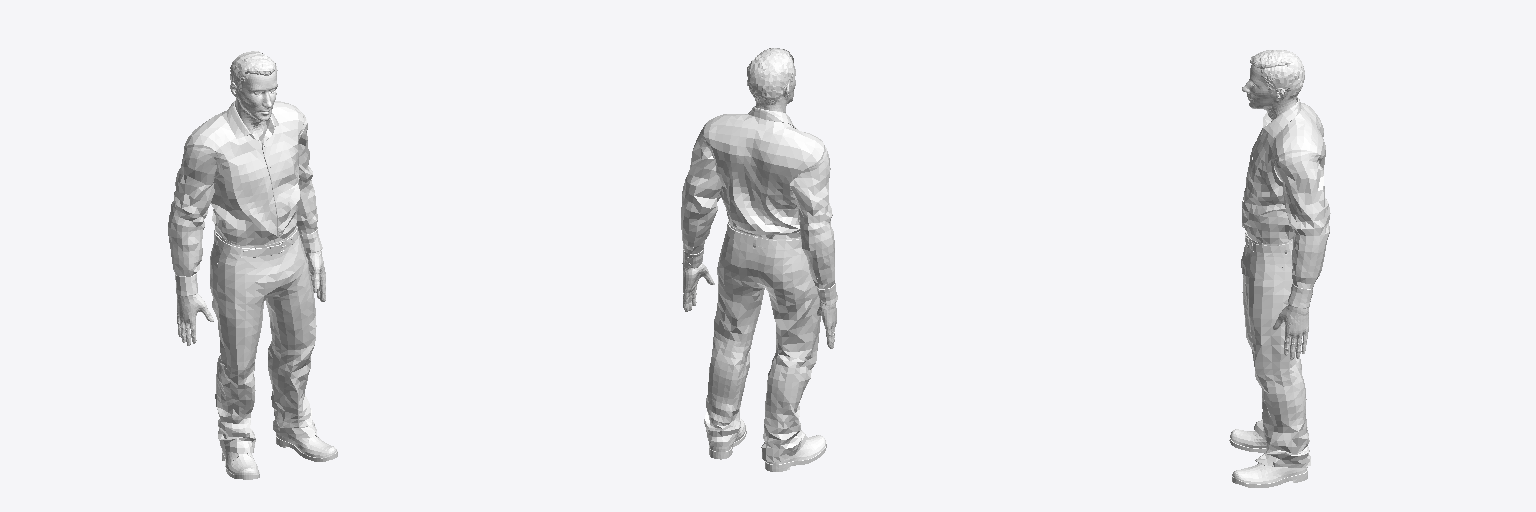
File: human_male.obj
The picture shows the model from 3 angles: view 1: azimuth 30°, elevation 25°; view 2: azimuth 150°, elevation 25°; view 3: azimuth 270°, elevation 25°; orthographic projection.
Parts seen in each view (by area): view 1: Tops, Bottoms, Body, Shoes, Hair; view 2: Tops, Bottoms, Hair, Body, Shoes; view 3: Tops, Bottoms, Body, Shoes, Hair.
Boxes of the visible parts, box(x1,y1,x2,y2) form: Tops: box(168, 100, 322, 296); Bottoms: box(210, 226, 316, 453); Body: box(177, 69, 325, 345); Shoes: box(222, 433, 337, 479); Hair: box(230, 51, 277, 92); Tops: box(681, 106, 837, 304); Bottoms: box(704, 220, 820, 462); Hair: box(747, 48, 793, 104); Body: box(683, 66, 836, 348); Shoes: box(709, 418, 826, 471); Tops: box(1242, 97, 1330, 308); Bottoms: box(1241, 231, 1310, 467); Body: box(1242, 65, 1308, 359); Shoes: box(1229, 429, 1307, 487); Hair: box(1250, 50, 1304, 99).
Size of the model in its own units: 684 by 1764 by 398.